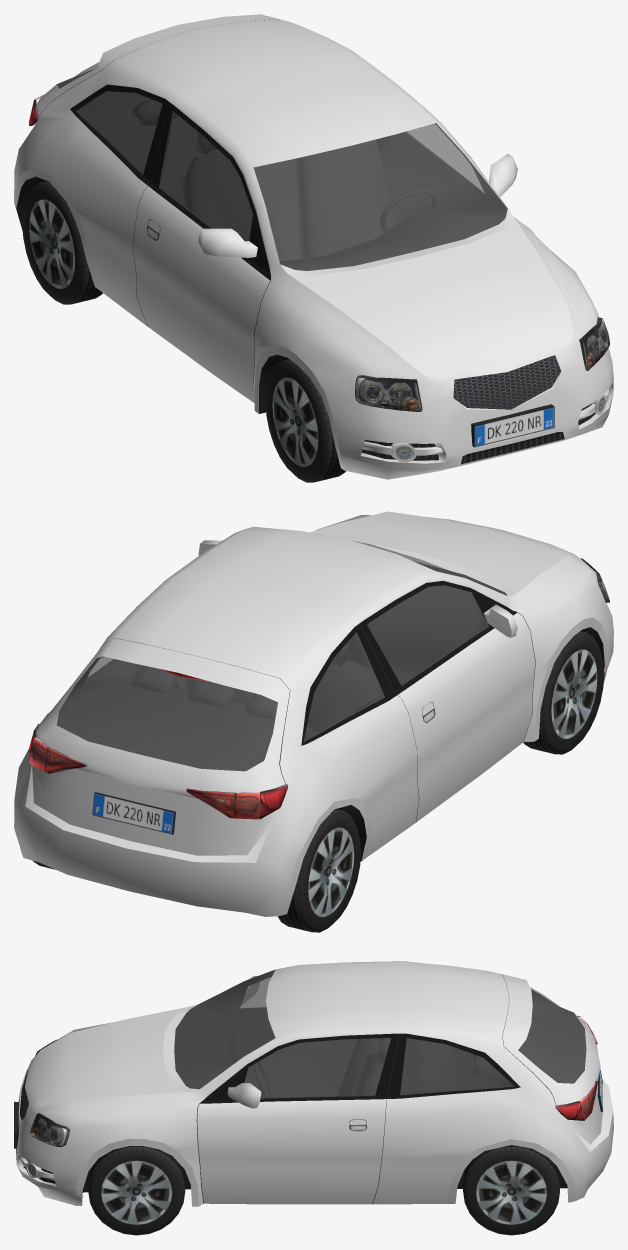
File: sweethome3d-scopia-city-car.glb
The picture shows the model from 3 angles, top to bottom: view 1: azimuth 30°, elevation 25°; view 2: azimuth 150°, elevation 25°; view 3: azimuth 270°, elevation 25°; orthographic projection. The views are drawn at different scales.
Parts seen in each view (by area): view 1: Car, interior_Interior, wheels_Cylinder, FrontLights_mesh.009, LicensePlates_Lights.005; view 2: Car, interior_Interior, wheels_Cylinder, RearLights_mesh.005, LicensePlates_Lights.005, Lines; view 3: Car, interior_Interior, wheels_Cylinder, FrontLights_mesh.009, RearLights_mesh.005, Lines, LicensePlates_Lights.005.
Part boxes in pixels (x1=…): Car: x1=14, y1=14, x2=613, y2=479; interior_Interior: x1=57, y1=71, x2=507, y2=270; wheels_Cylinder: x1=22, y1=181, x2=345, y2=482; FrontLights_mesh.009: x1=355, y1=317, x2=609, y2=411; LicensePlates_Lights.005: x1=471, y1=404, x2=554, y2=447; Car: x1=14, y1=511, x2=613, y2=916; interior_Interior: x1=57, y1=561, x2=507, y2=771; wheels_Cylinder: x1=33, y1=631, x2=604, y2=932; RearLights_mesh.005: x1=28, y1=668, x2=287, y2=819; LicensePlates_Lights.005: x1=92, y1=792, x2=175, y2=834; Lines: x1=42, y1=612, x2=535, y2=822; Car: x1=16, y1=961, x2=613, y2=1206; interior_Interior: x1=174, y1=970, x2=586, y2=1098; wheels_Cylinder: x1=88, y1=1145, x2=559, y2=1235; FrontLights_mesh.009: x1=29, y1=1039, x2=70, y2=1146; RearLights_mesh.005: x1=555, y1=1016, x2=597, y2=1120; Lines: x1=196, y1=974, x2=555, y2=1204; LicensePlates_Lights.005: x1=14, y1=1069, x2=602, y2=1148.
Size of the model in its own units: 184 by 141 by 394.
Materials: 18 (8 with a texture image).
